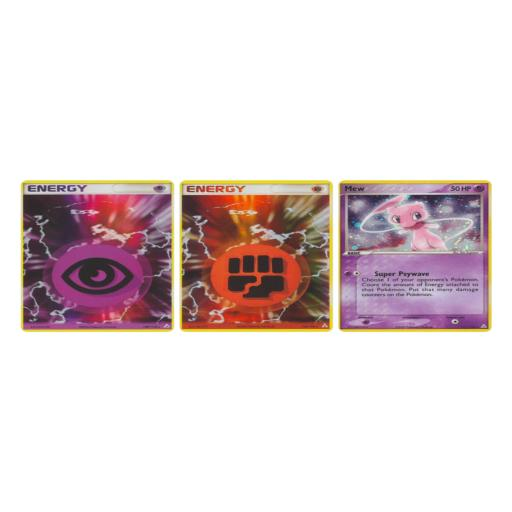card: (20, 179, 175, 333), (339, 180, 491, 332), (181, 180, 331, 333)
